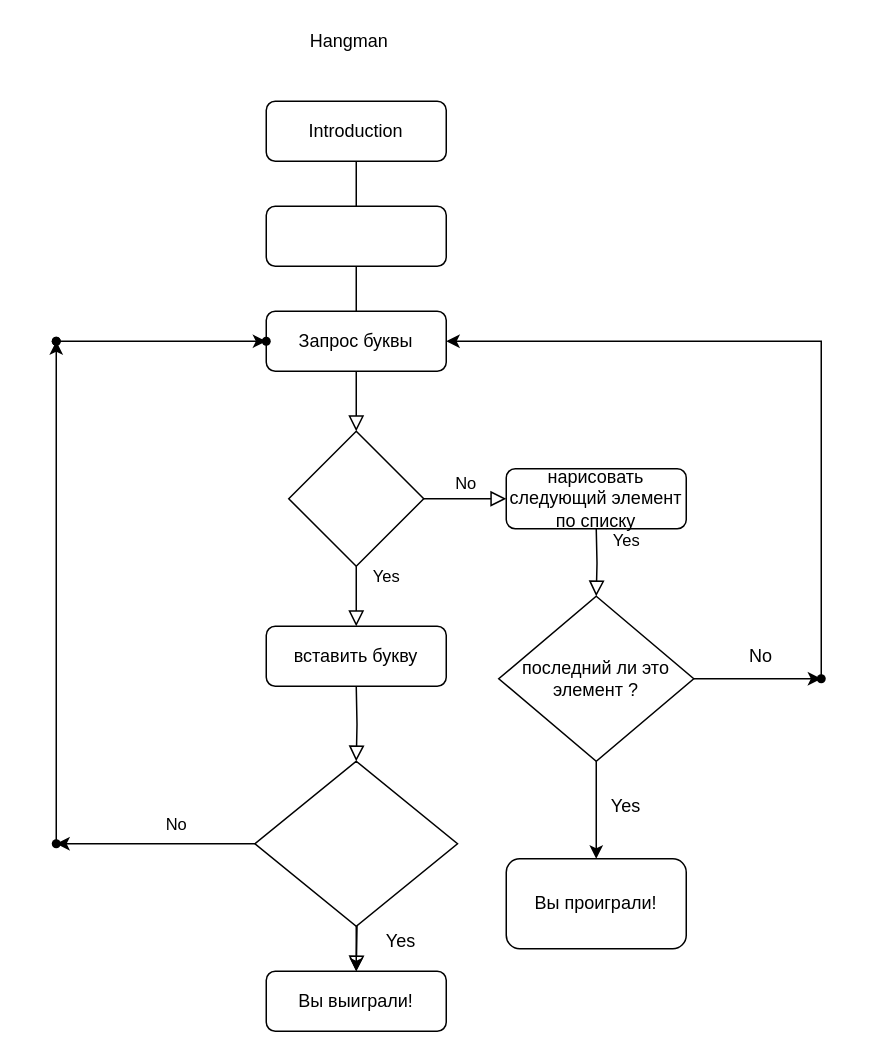
Image size: 878x1058. Some labels were removed from this diagram. The centre of each missing label's shape, as x and y in pixels:
Выбор слова: the point at 355,235
Есть ли данная буква в слове: the point at 355,498
последняя ли это отгаданная буква: the point at 356,843
